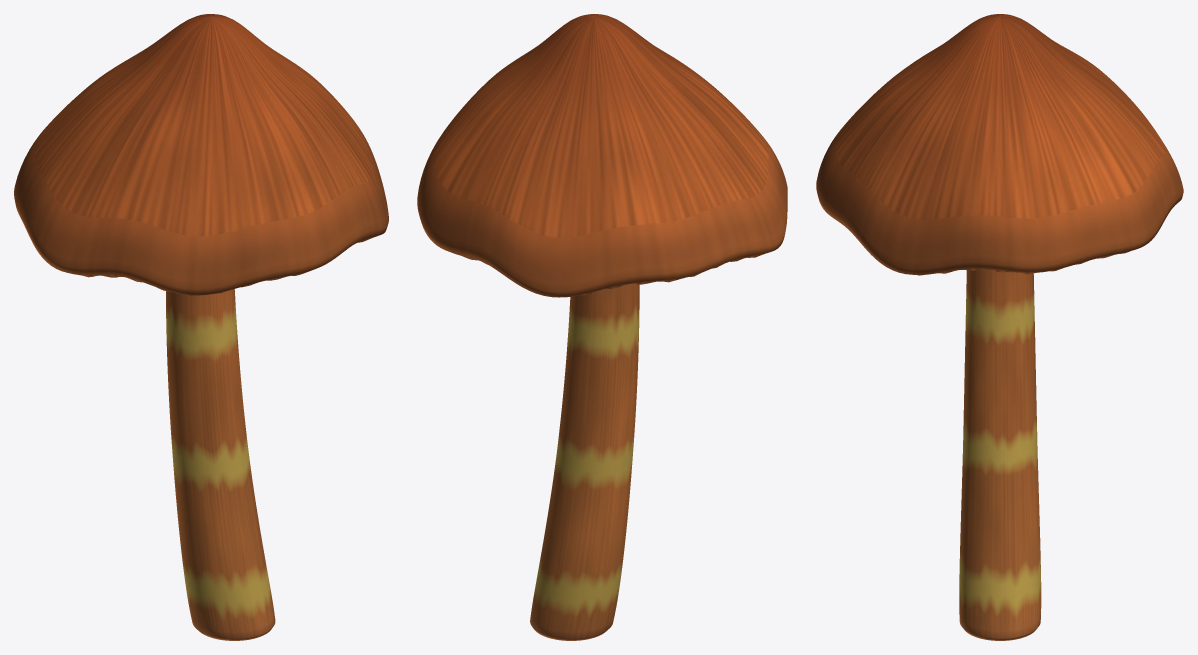
The model's file is cortinarius-rubellus-drawn.glb.
3 views of the same model, side by side, from view 1: azimuth 30°, elevation 25°; view 2: azimuth 150°, elevation 25°; view 3: azimuth 270°, elevation 25° (orthographic). The views are drawn at different scales.
Size of the model in its own units: 0.5564 by 1 by 0.5566.
1 material, 1 textured.
